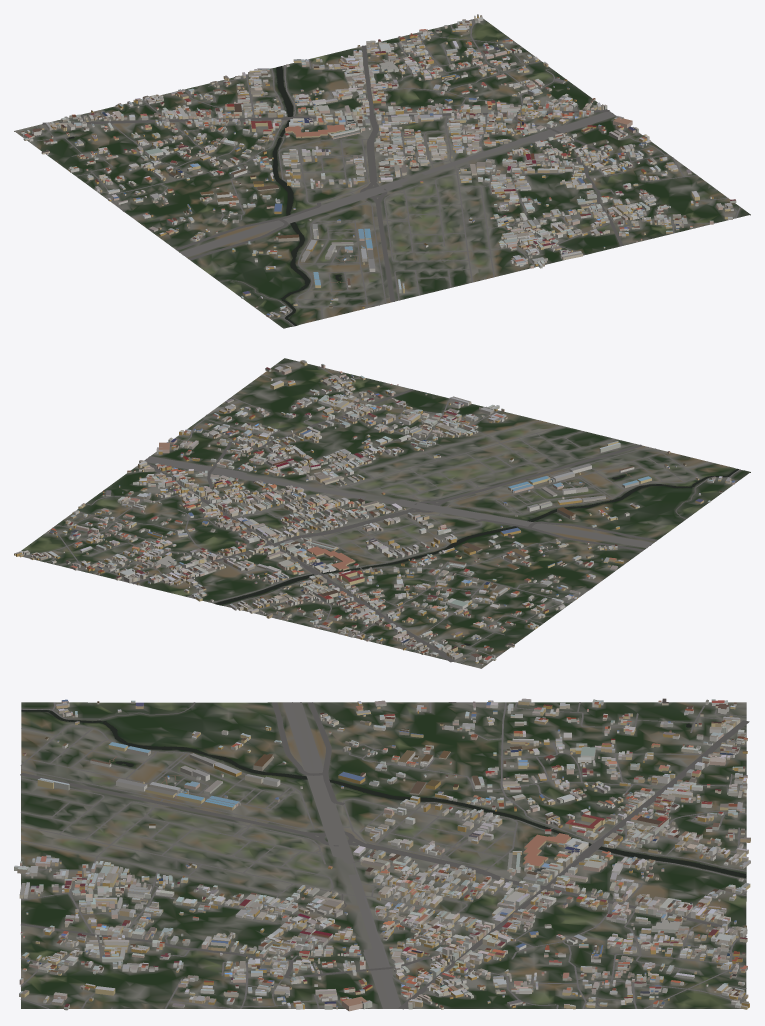
3 renders of one model, top to bottom at view 1: azimuth 30°, elevation 25°; view 2: azimuth 150°, elevation 25°; view 3: azimuth 270°, elevation 25°, orthographic. The views are drawn at different scales.
Parts seen in each view (by area): view 1: ground, buildings, roads, water; view 2: ground, buildings, roads, water; view 3: ground, buildings, roads, water.
Part boxes in pixels (x1=…): ground: x1=14, y1=18, x2=750, y2=328; buildings: x1=20, y1=14, x2=736, y2=317; roads: x1=35, y1=19, x2=740, y2=325; water: x1=68, y1=66, x2=341, y2=325; ground: x1=21, y1=358, x2=750, y2=668; buildings: x1=14, y1=360, x2=735, y2=665; roads: x1=24, y1=361, x2=740, y2=663; water: x1=215, y1=468, x2=738, y2=645; ground: x1=21, y1=702, x2=746, y2=1008; buildings: x1=14, y1=698, x2=750, y2=1011; roads: x1=20, y1=702, x2=749, y2=1009; water: x1=21, y1=709, x2=746, y2=877.
Bounding box in the file's own units: 1419 × 19.49 × 1423.
